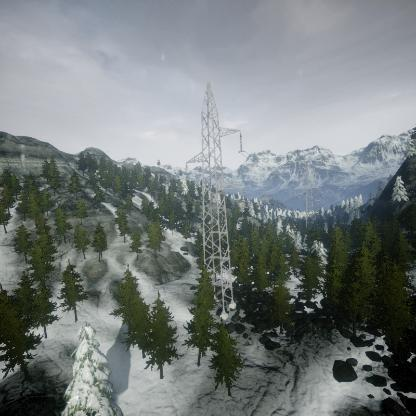tower: (182, 80, 247, 321)
